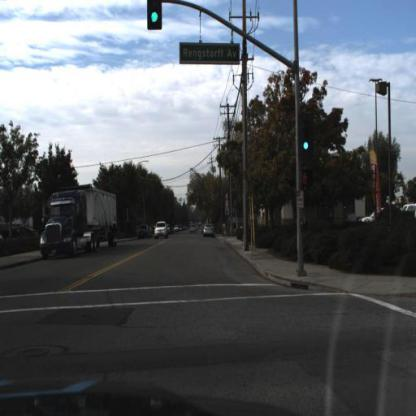car: (153, 222, 168, 240), (201, 222, 216, 240)
trafficLight-Green: (299, 114, 313, 163)
truck: (38, 184, 117, 260), (39, 186, 122, 256)
